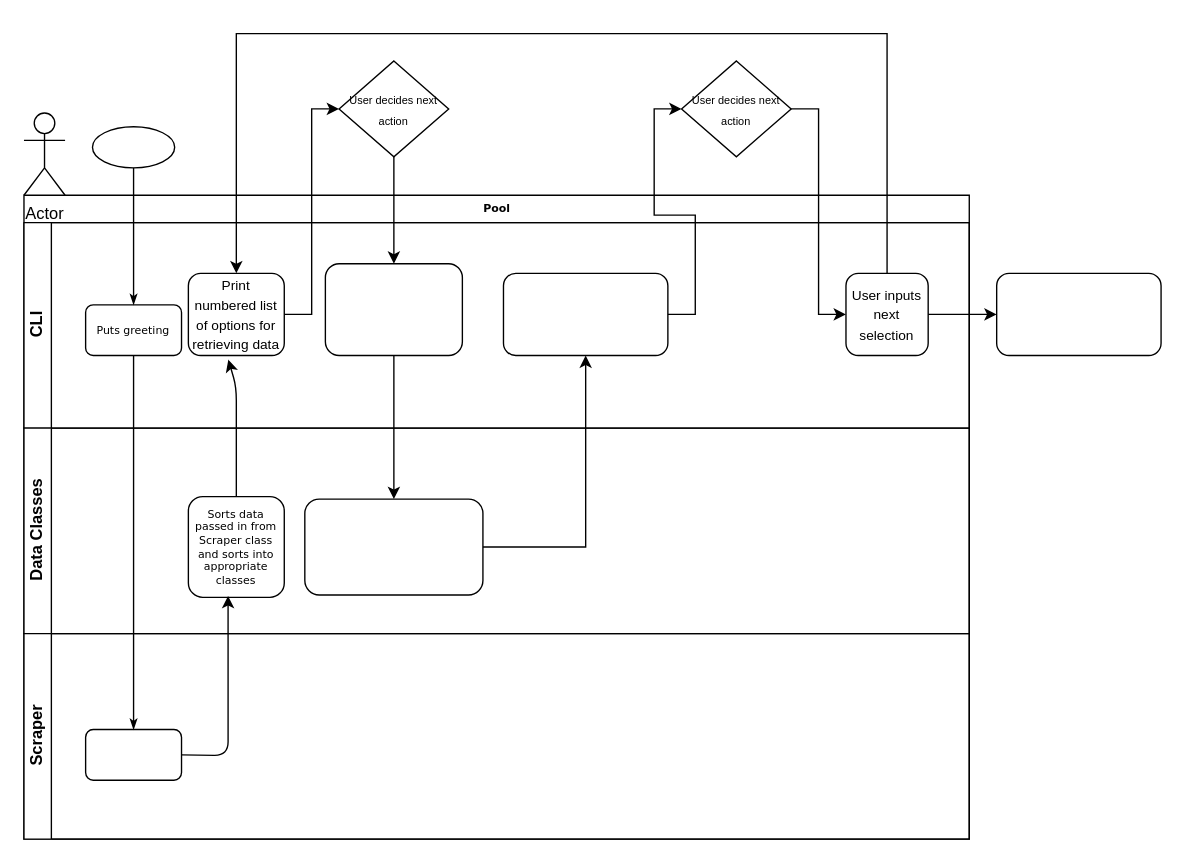
Image size: 1185x863. Some labels were removed from this diagram. Each missing label, with the centre of its shape:
"Get data from api source" belongs at pixel 133 754.
"Print out numbered list of data to choose from" belongs at pixel 585 314.
"Program exits" belongs at pixel 1078 314.
"Retrieves information from class selected" belongs at pixel 393 546.
"User inputs selection of what class of data he is interested in" belongs at pixel 393 309.
"User Starts App" belongs at pixel 133 146.
